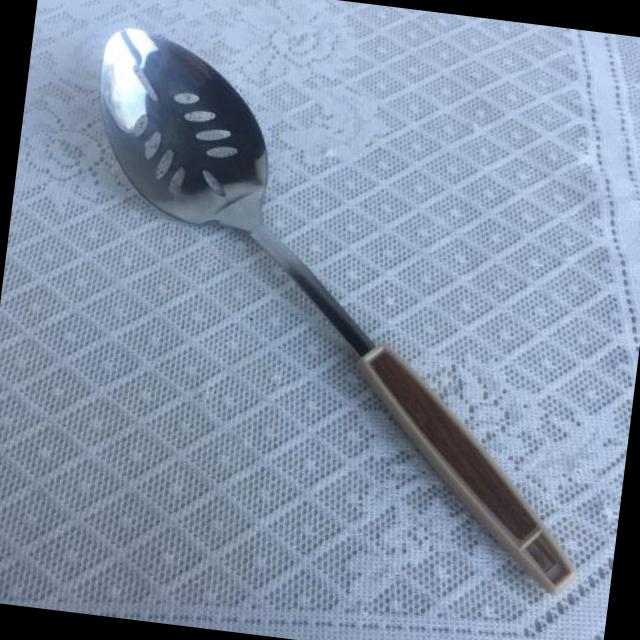spoon: (36, 16, 633, 603)
